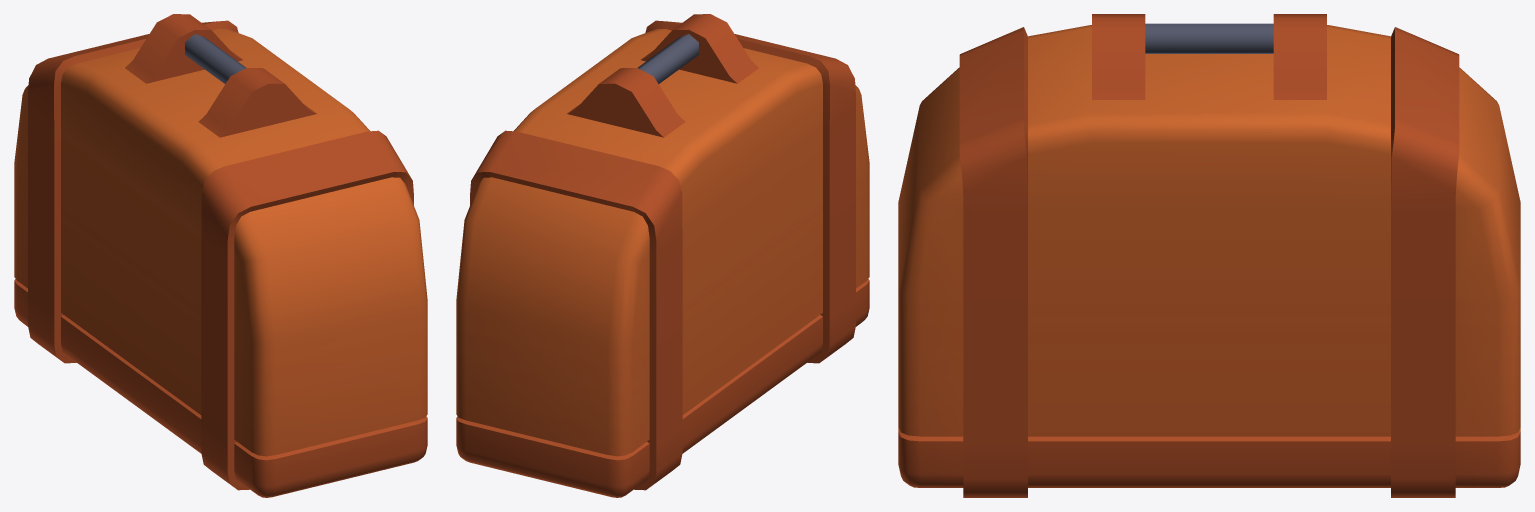
The model's file is Bag_4.FBX.
The picture shows the model from 3 angles, left to right: view 1: azimuth 30°, elevation 25°; view 2: azimuth 150°, elevation 25°; view 3: azimuth 270°, elevation 25°; orthographic projection. The views are drawn at different scales.
Visible parts, largest first — view 1: Bag_4; view 2: Bag_4; view 3: Bag_4.
Part boxes in pixels (<box>): Bag_4: <box>14,14,427,497</box>; Bag_4: <box>456,14,869,497</box>; Bag_4: <box>898,14,1520,497</box>.
Size of the model in its own units: 15.91 by 28.6 by 37.29.
Materials: 1 (1 with a texture image).
